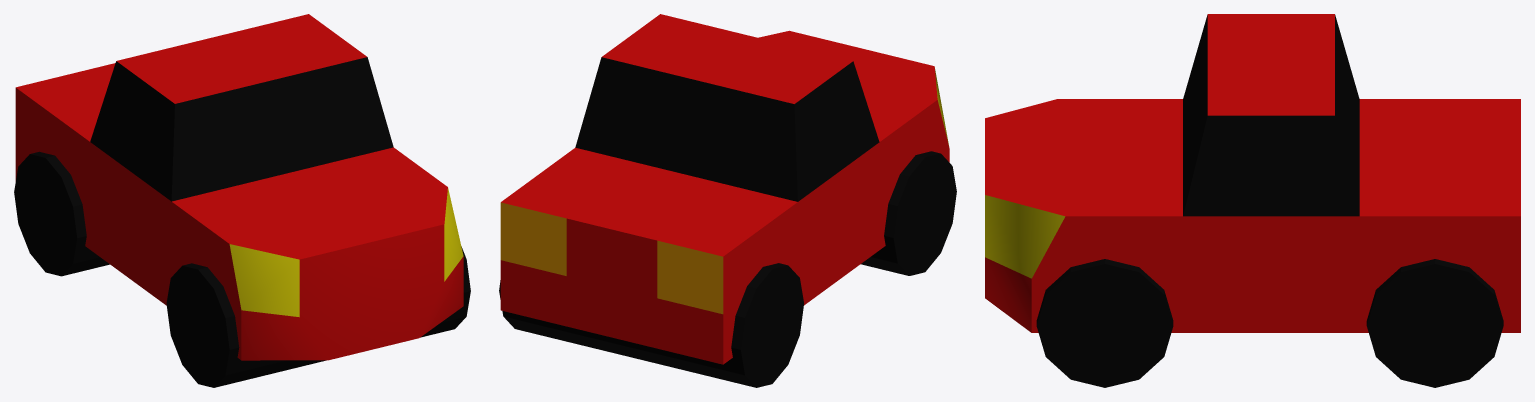
File: lowPolyCar.fbx
The picture shows the model from 3 angles, left to right: view 1: azimuth 30°, elevation 25°; view 2: azimuth 150°, elevation 25°; view 3: azimuth 270°, elevation 25°; orthographic projection. The views are drawn at different scales.
Parts seen in each view (by area): view 1: pCube1, pCylinder1, pCylinder2; view 2: pCube1, pCylinder2, pCylinder1; view 3: pCube1, pCylinder1, pCylinder2.
Part boxes in pixels (box(x1,y1,x2,y2)): pCube1: box(15, 14, 463, 360); pCylinder1: box(166, 246, 470, 387); pCylinder2: box(14, 151, 109, 276); pCube1: box(500, 14, 949, 364); pCylinder2: box(499, 263, 803, 387); pCylinder1: box(861, 151, 956, 275); pCube1: box(985, 14, 1520, 332); pCylinder1: box(1036, 259, 1173, 387); pCylinder2: box(1366, 259, 1503, 387).
Size of the model in its own units: 1.09 by 1.03 by 1.93.
